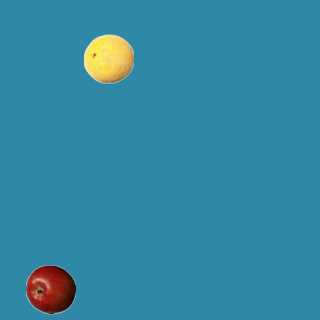Apple Braeburn: (25, 264, 75, 314)
Cantaloupe 1: (83, 33, 133, 83)
